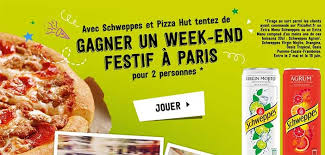not-coke: (235, 66, 279, 155)
